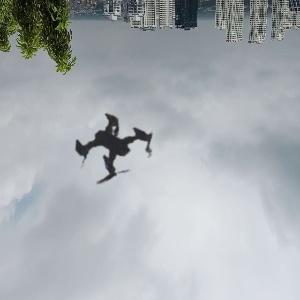drone: (7, 42, 225, 260)
